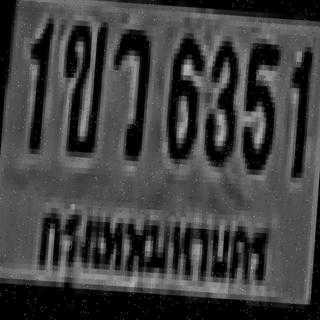A02: (58, 14, 106, 153)
A37: (107, 23, 150, 156)
N01: (23, 14, 53, 147), (283, 41, 310, 172)
N03: (201, 35, 238, 162)
N05: (239, 37, 280, 170)
N06: (162, 27, 202, 160)
P04: (29, 182, 275, 308)
